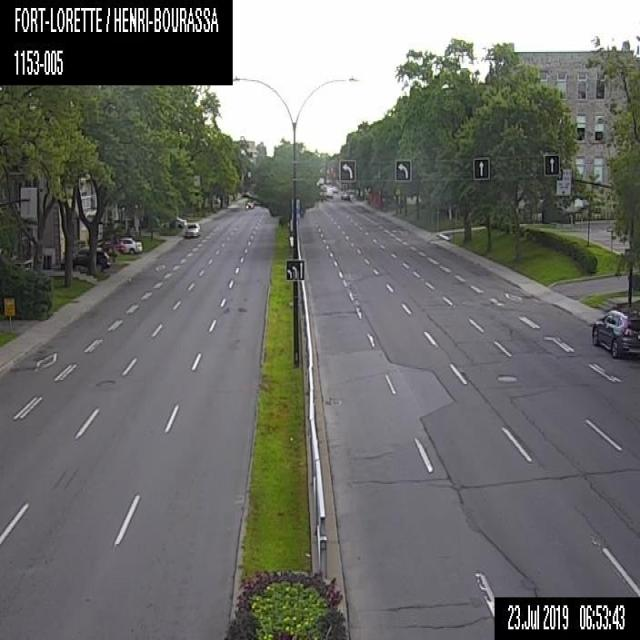vehicle: (589, 306, 639, 362), (62, 246, 109, 271), (116, 235, 142, 254), (181, 218, 201, 238), (100, 237, 123, 253), (161, 217, 185, 228), (339, 190, 351, 202), (243, 199, 254, 209), (327, 186, 332, 197), (332, 185, 337, 192)
